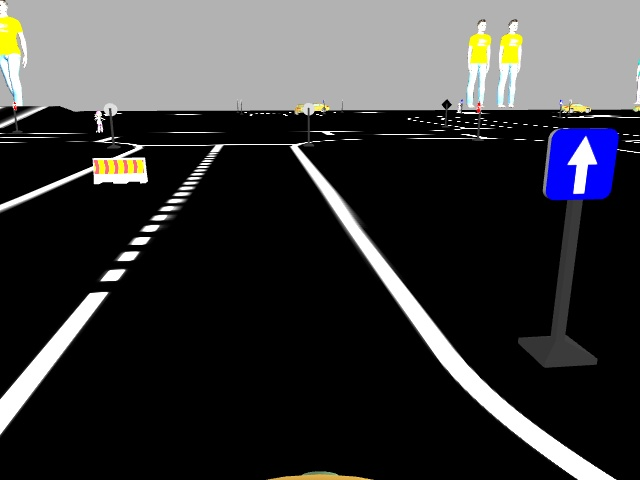ClosedRoadStand: (92, 160, 146, 181)
OneWay: (551, 131, 613, 198)
